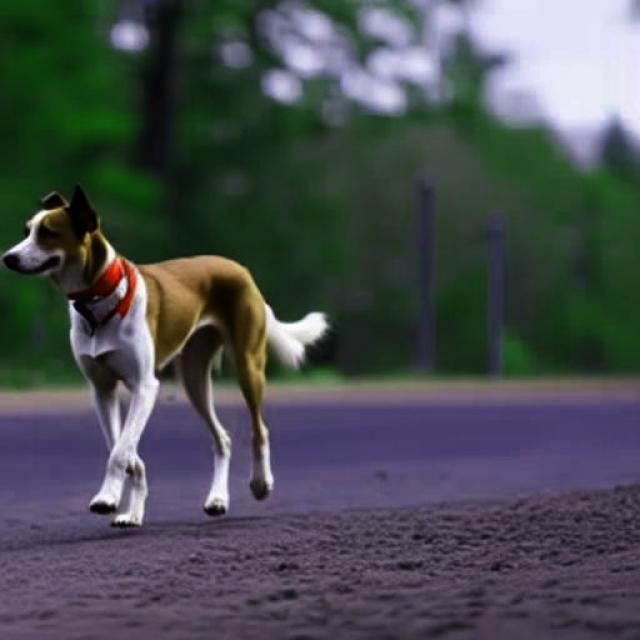Dog: (0, 181, 331, 528)
